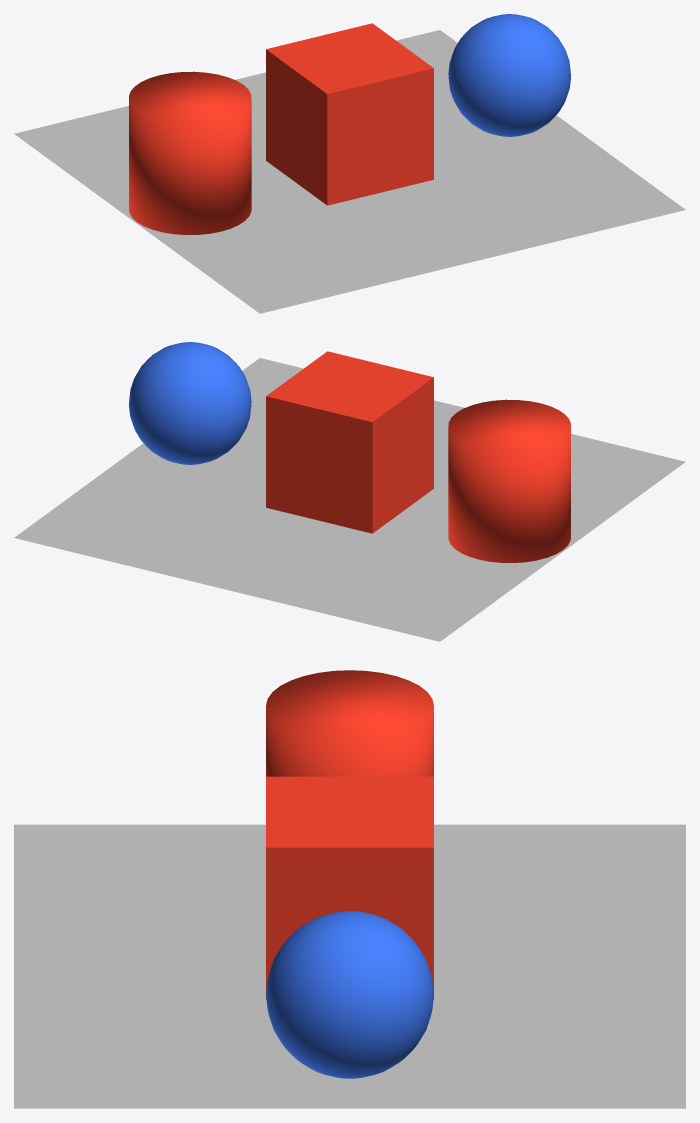
File: result.glb
The picture shows the model from 3 angles, top to bottom: view 1: azimuth 30°, elevation 25°; view 2: azimuth 150°, elevation 25°; view 3: azimuth 270°, elevation 25°; orthographic projection. The views are drawn at different scales.
Parts seen in each view (by area): view 1: FixtureFloor, FixtureCube, FixtureCylinder, FixtureSphere; view 2: FixtureFloor, FixtureCube, FixtureCylinder, FixtureSphere; view 3: FixtureFloor, FixtureCube, FixtureSphere, FixtureCylinder.
Part boxes in pixels (left/top/right/bottom): FixtureFloor: left=14, top=30, right=685, bottom=313; FixtureCube: left=266, top=23, right=433, bottom=205; FixtureCylinder: left=129, top=71, right=251, bottom=234; FixtureSphere: left=448, top=14, right=570, bottom=136; FixtureFloor: left=14, top=358, right=685, bottom=641; FixtureCube: left=266, top=351, right=433, bottom=533; FixtureCylinder: left=448, top=399, right=570, bottom=562; FixtureSphere: left=129, top=342, right=251, bottom=464; FixtureFloor: left=14, top=824, right=685, bottom=1108; FixtureCube: left=266, top=776, right=433, bottom=999; FixtureSphere: left=266, top=911, right=433, bottom=1078; FixtureCylinder: left=266, top=670, right=433, bottom=776.
Size of the model in its own units: 8 by 2.03 by 8.
